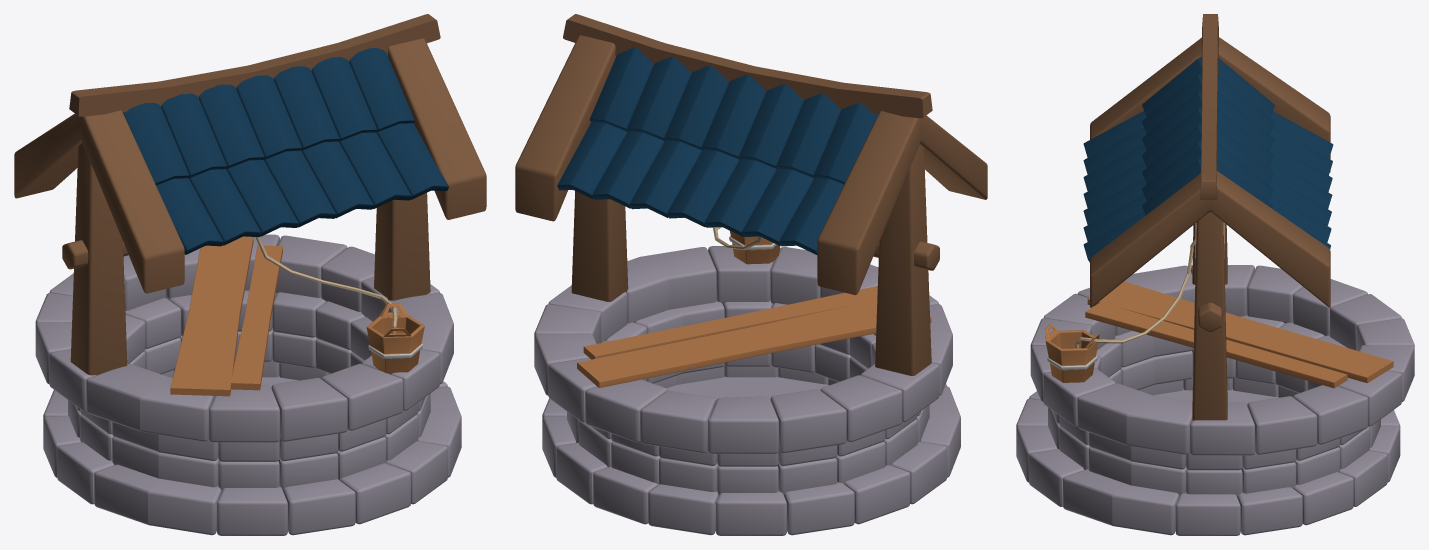
The model's file is Well_1.fbx.
3 renders of one model, left to right at view 1: azimuth 30°, elevation 25°; view 2: azimuth 150°, elevation 25°; view 3: azimuth 270°, elevation 25°, orthographic. The views are drawn at different scales.
Parts seen in each view (by area): view 1: Well_2; view 2: Well_2; view 3: Well_2.
Boxes of the visible parts, x1,y1,x2,y2 form: Well_2: [14, 14, 486, 535]; Well_2: [515, 14, 987, 535]; Well_2: [1016, 14, 1414, 535].
Bounding box in the file's own units: 4024 × 4154 × 4115.
